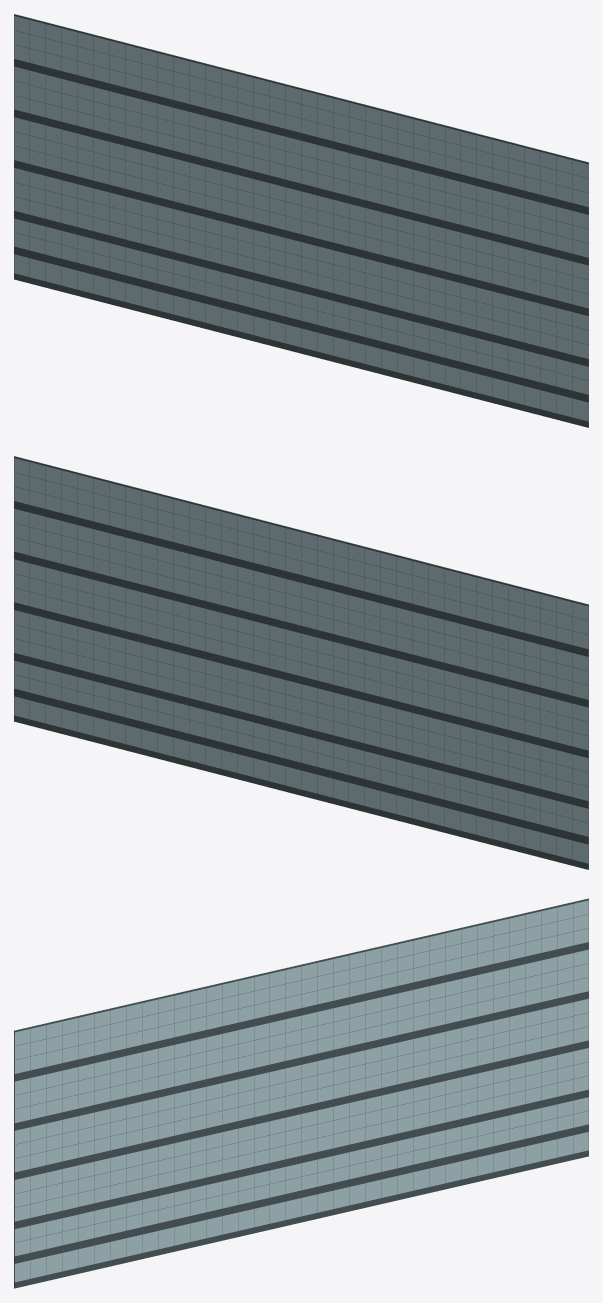
Rendered from G7_Completion_Prior_G7_MiddleExteriorSkin_E05_r001.glb.
3 views of the same model, one above another, from view 1: azimuth 30°, elevation 25°; view 2: azimuth 210°, elevation 25°; view 3: azimuth 270°, elevation 25° (orthographic). The views are drawn at different scales.
Visible parts, largest first — view 1: G7_MiddleSkin_E05_glazing, G7_MiddleSkin_E05_spandrel, G7_MiddleSkin_E05_joint; view 2: G7_MiddleSkin_E05_glazing, G7_MiddleSkin_E05_spandrel, G7_MiddleSkin_E05_joint; view 3: G7_MiddleSkin_E05_glazing, G7_MiddleSkin_E05_spandrel, G7_MiddleSkin_E05_joint.
Part boxes in pixels (box(x1,y1,x2,y2)): G7_MiddleSkin_E05_glazing: box(14, 16, 588, 421); G7_MiddleSkin_E05_spandrel: box(14, 14, 588, 427); G7_MiddleSkin_E05_joint: box(14, 16, 588, 420); G7_MiddleSkin_E05_glazing: box(14, 458, 587, 863); G7_MiddleSkin_E05_spandrel: box(14, 456, 588, 869); G7_MiddleSkin_E05_joint: box(14, 458, 588, 863); G7_MiddleSkin_E05_glazing: box(15, 900, 588, 1282); G7_MiddleSkin_E05_spandrel: box(14, 898, 588, 1288); G7_MiddleSkin_E05_joint: box(14, 900, 588, 1282).
Bounding box in the file's own units: 49.12 × 44.5 × 90.04.
3 materials, 2 textured.
